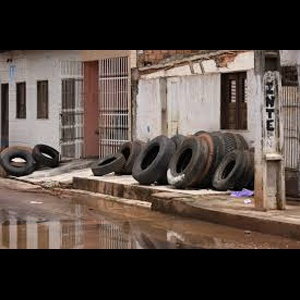tire: (133, 131, 175, 183), (170, 135, 209, 187), (213, 149, 248, 192), (111, 139, 141, 177), (1, 148, 35, 176), (32, 141, 61, 168), (93, 154, 125, 175)
